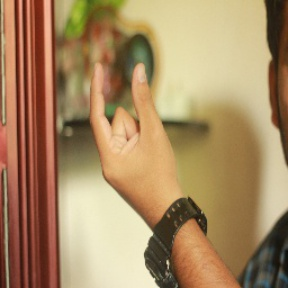U: (84, 57, 173, 193)
